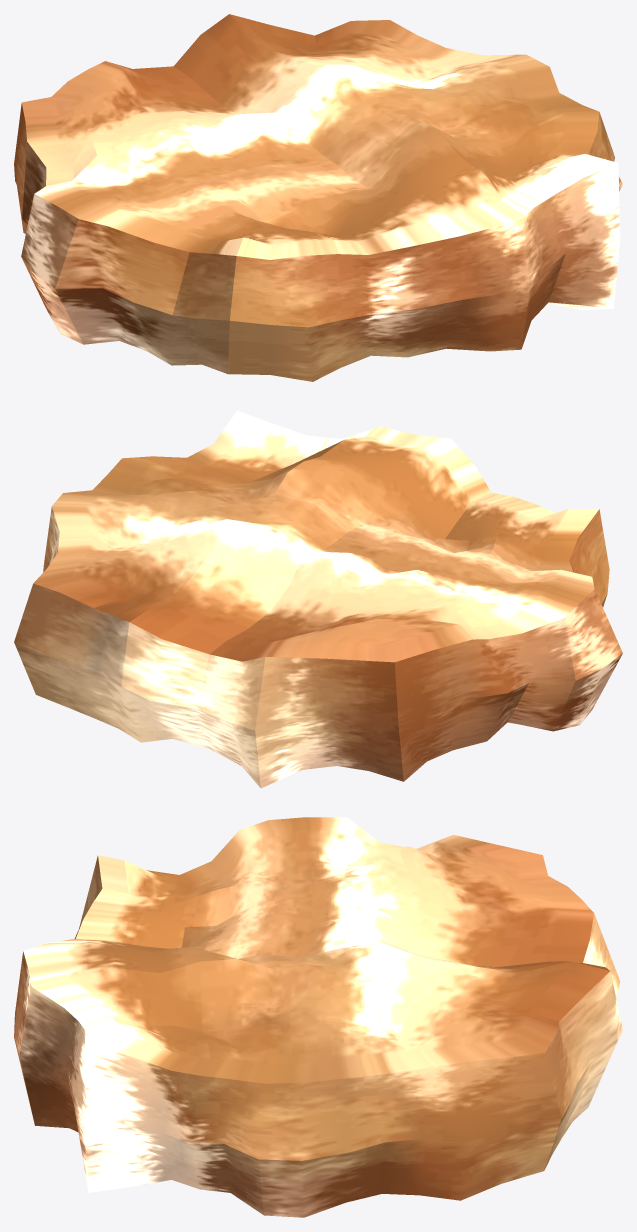
File: platform_000.fbx
The picture shows the model from 3 angles, top to bottom: view 1: azimuth 30°, elevation 25°; view 2: azimuth 150°, elevation 25°; view 3: azimuth 270°, elevation 25°; orthographic projection. The views are drawn at different scales.
Parts seen in each view (by area): view 1: platform.000; view 2: platform.000; view 3: platform.000.
Boxes of the visible parts, left/top/right/bottom form: platform.000: left=14, top=14, right=622, bottom=381; platform.000: left=14, top=410, right=622, bottom=788; platform.000: left=14, top=817, right=622, bottom=1217.
Size of the model in its own units: 296 by 96.9 by 267.
